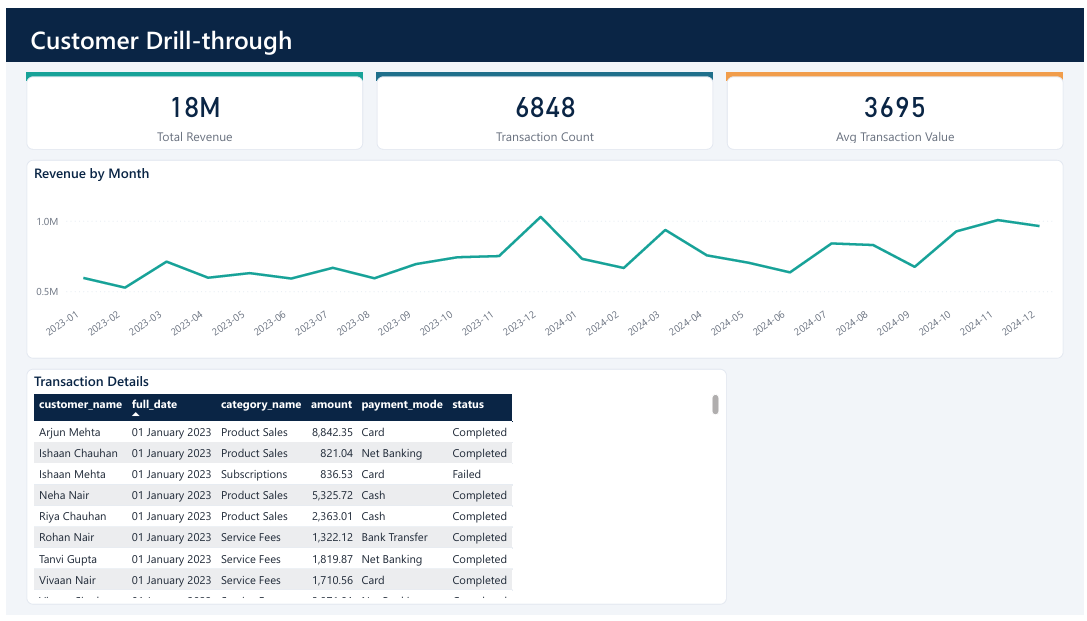

This screenshot's page, from the dashboard's own definition file:
{"tool":"powerbi","page":{"name":"Customer Drill-through","canvas":[1280,720],"ordinal":2},"visuals":[{"type":"textbox","box":[0,0,1280,64],"z":0},{"type":"textbox","box":[24,12,720,40],"z":1000},{"type":"textbox","box":[760,20,496,26],"z":2000},{"type":"textbox","box":[24,76,400,5],"z":3000},{"type":"card","fields":{"Values":["_Measures.Total Revenue"]},"box":[24,81,400,87],"z":4000},{"type":"textbox","box":[440,76,400,5],"z":5000},{"type":"card","fields":{"Values":["_Measures.Transaction Count"]},"box":[440,81,400,87],"z":6000},{"type":"textbox","box":[856,76,400,5],"z":7000},{"type":"card","fields":{"Values":["_Measures.Avg Transaction Value"]},"box":[856,81,400,87],"z":8000},{"type":"lineChart","title":"Revenue by Month","fields":{"Category":["Date.period"],"Y":["_Measures.Total Revenue"]},"box":[24,180,1232,236],"z":9000},{"type":"tableEx","title":"Transaction Details","fields":{"Values":["vw_transactions.customer_name","vw_transactions.full_date","vw_transactions.category_name","vw_transactions.amount","vw_transactions.payment_mode","vw_transactions.status"]},"box":[24,428,1232,280],"z":10000}]}

Visuals, with their boxes in screenshot pixels (x1, y1, x2, y2), scaled from the page's 1280x720 canvas onto the 1087x621 screenshot:
textbox: [0,0,1086,55]
textbox: [20,10,632,45]
textbox: [645,17,1067,40]
textbox: [20,66,360,70]
card - _Measures.Total Revenue: [20,70,360,145]
textbox: [374,66,713,70]
card - _Measures.Transaction Count: [374,70,713,145]
textbox: [727,66,1067,70]
card - _Measures.Avg Transaction Value: [727,70,1067,145]
"Revenue by Month" lineChart: [20,155,1067,359]
"Transaction Details" tableEx: [20,369,1067,611]
